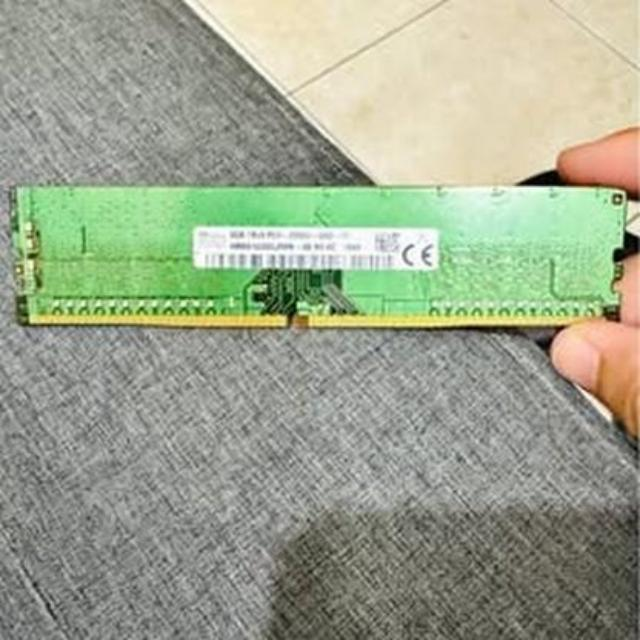RAM: (0, 138, 632, 338)
